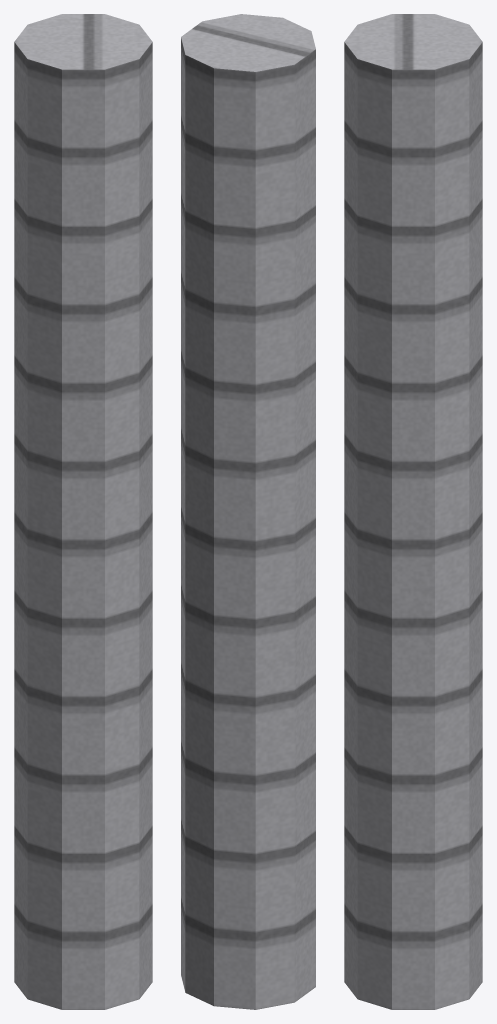
Rendered from barber_pole.glb.
3 renders of one model, left to right at view 1: azimuth 90°, elevation 25°; view 2: azimuth 150°, elevation 25°; view 3: azimuth 270°, elevation 25°, orthographic.
Visible parts, largest first — view 1: barber_pole-col; view 2: barber_pole-col; view 3: barber_pole-col.
Part boxes in pixels (x1,y1,x2,y2): barber_pole-col: [14, 14, 152, 1009]; barber_pole-col: [181, 14, 315, 1009]; barber_pole-col: [344, 14, 482, 1009].
Bounding box in the file's own units: 0.1902 × 1.5 × 0.2.
Materials: 1 (1 with a texture image).
